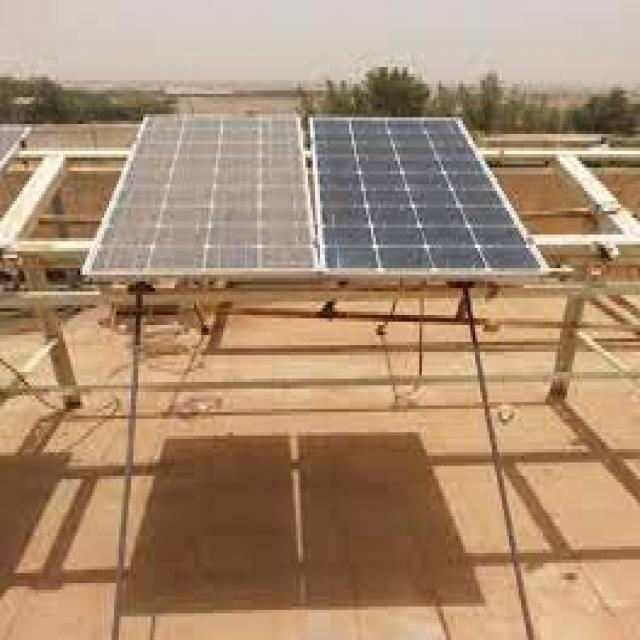faulty: (84, 112, 318, 276)
no faulty: (312, 119, 547, 276)
